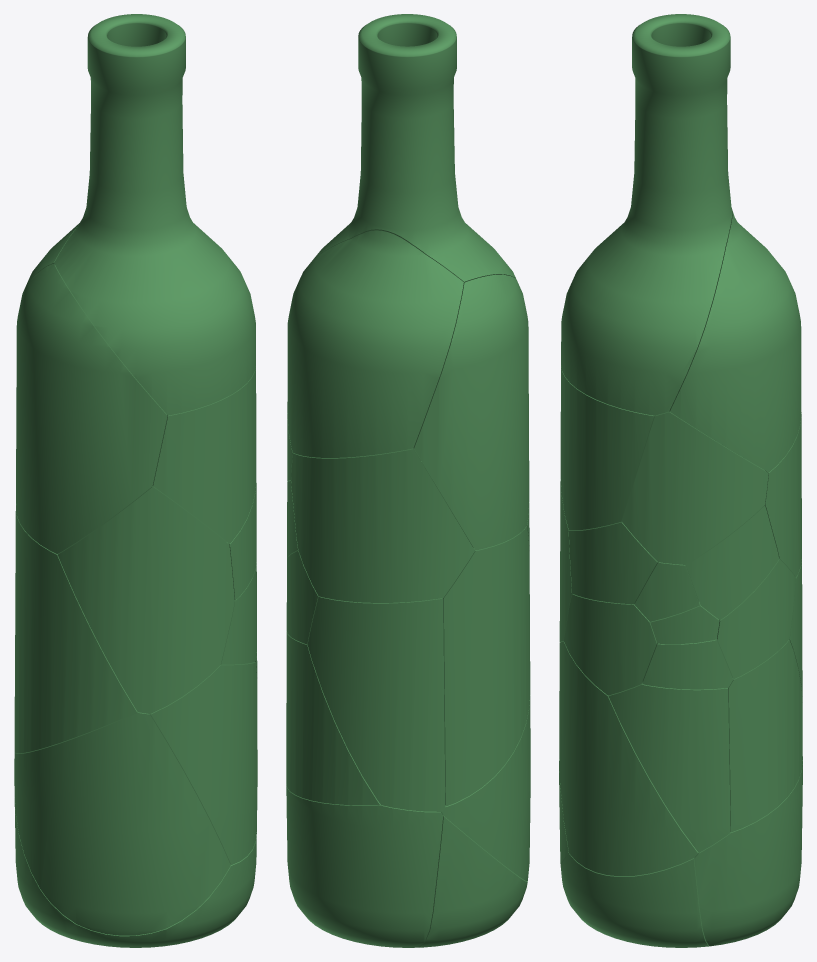
Rendered from bottle_bordeaux_shards.glb.
3 views of the same model, side by side, from view 1: azimuth 30°, elevation 25°; view 2: azimuth 150°, elevation 25°; view 3: azimuth 270°, elevation 25° (orthographic).
Parts seen in each view (by area): view 1: Shard_01, Shard_05, Shard_03, Shard_08, Shard_06, Shard_07, Shard_12, Shard_00, Shard_15, Shard_17; view 2: Shard_04, Shard_01, Shard_10, Shard_03, Shard_09, Shard_02, Shard_06, Shard_11, Shard_00, Shard_05, Shard_16, Shard_18; view 3: Shard_01, Shard_04, Shard_07, Shard_13, Shard_14, Shard_02, Shard_11, Shard_12, Shard_00, Shard_15, Shard_18, Shard_17 (+7 smaller).
Part boxes in pixels (<box>): Shard_01: <box>54,14,255,415</box>; Shard_05: <box>14,712,230,935</box>; Shard_03: <box>16,263,167,553</box>; Shard_08: <box>57,486,234,713</box>; Shard_06: <box>14,513,137,753</box>; Shard_07: <box>149,662,257,864</box>; Shard_12: <box>152,366,256,543</box>; Shard_00: <box>14,797,256,947</box>; Shard_15: <box>220,562,256,664</box>; Shard_17: <box>227,482,256,600</box>; Shard_04: <box>287,230,463,457</box>; Shard_01: <box>309,14,515,283</box>; Shard_10: <box>307,596,445,811</box>; Shard_03: <box>413,274,529,550</box>; Shard_09: <box>291,448,474,602</box>; Shard_02: <box>286,785,442,947</box>; Shard_06: <box>443,526,530,806</box>; Shard_11: <box>286,631,380,805</box>; Shard_00: <box>419,815,527,947</box>; Shard_05: <box>441,695,530,881</box>; Shard_16: <box>286,550,319,644</box>; Shard_18: <box>287,481,298,558</box>; Shard_01: <box>561,14,732,415</box>; Shard_04: <box>669,209,801,472</box>; Shard_07: <box>559,641,698,876</box>; Shard_13: <box>622,411,768,564</box>; Shard_14: <box>608,682,730,852</box>; Shard_02: <box>694,761,802,946</box>; Shard_11: <box>728,639,802,832</box>; Shard_12: <box>560,366,655,530</box>; Shard_00: <box>560,853,708,947</box>; Shard_15: <box>564,594,656,695</box>; Shard_18: <box>686,505,779,619</box>; Shard_17: <box>568,521,658,604</box>.
Size of the model in its own units: 0.076 by 0.3 by 0.0759.
